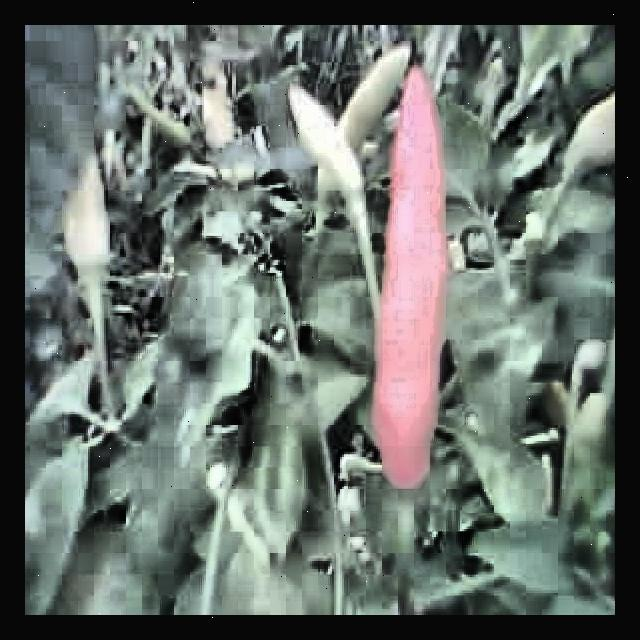Cabai: (373, 84, 453, 501)
